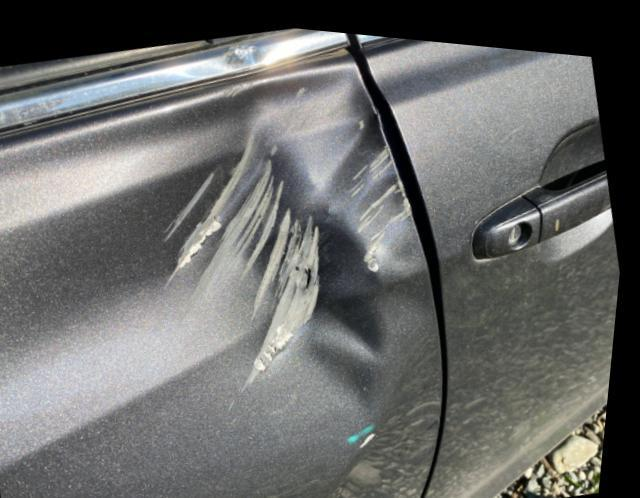dent: (150, 53, 418, 387)
